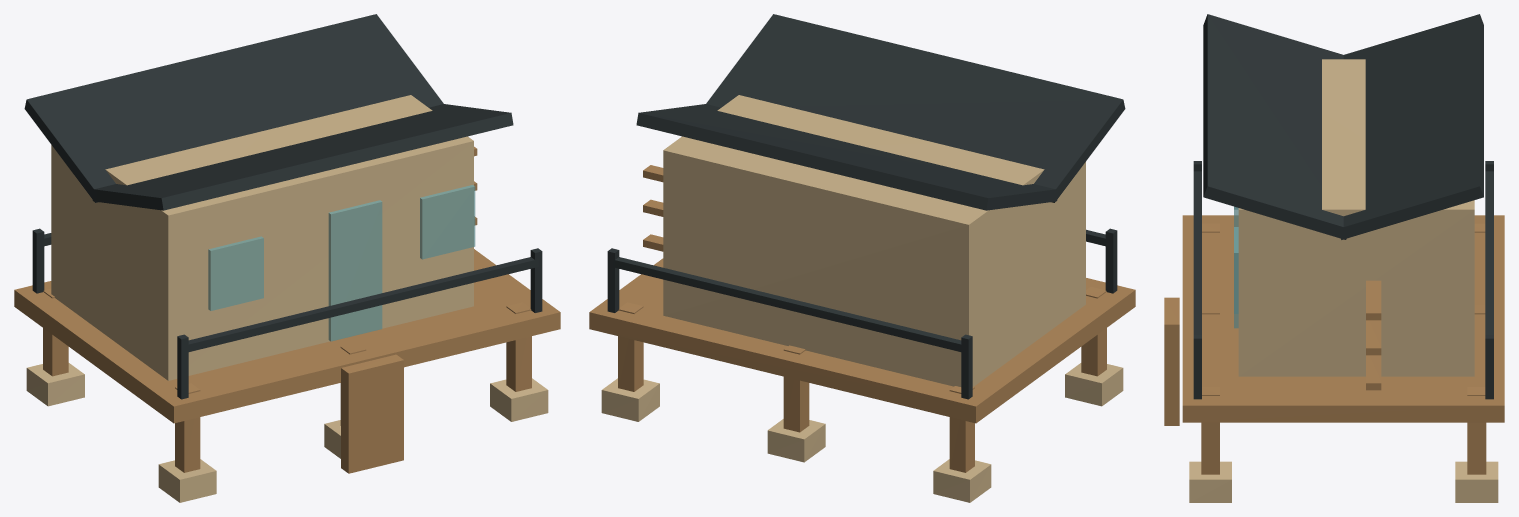
The model's file is fishing-hut.source.glb.
The picture shows the model from 3 angles, left to right: view 1: azimuth 30°, elevation 25°; view 2: azimuth 150°, elevation 25°; view 3: azimuth 270°, elevation 25°; orthographic projection.
Visible parts, largest first — view 1: fishing-hut-compact-gear-room-mesh, fishing-hut-shallow-pitched-roof--0.78-mesh, fishing-hut-narrow-raised-work-deck-mesh, fishing-hut-shallow-pitched-roof-0.78-mesh, fishing-hut-short-access-ladder-mesh, fishing-hut-simple-teal-door-mesh, fishing-hut-deck-safety-rail-1.7-mesh, fishing-hut-shuttered-window-1.45-mesh, fishing-hut-shuttered-window--1.42-mesh, fishing-hut-stone-footing--2.25--1.55-mesh, fishing-hut-stone-footing--2.25-1.55-mesh, fishing-hut-stone-footing-2.25-1.55-mesh (+6 smaller); view 2: fishing-hut-compact-gear-room-mesh, fishing-hut-shallow-pitched-roof-0.78-mesh, fishing-hut-narrow-raised-work-deck-mesh, fishing-hut-shallow-pitched-roof--0.78-mesh, fishing-hut-deck-safety-rail--1.7-mesh, fishing-hut-stone-footing--2.25--1.55-mesh, fishing-hut-stone-footing--2.25-1.55-mesh, fishing-hut-stone-footing-0--1.55-mesh, fishing-hut-stone-footing-2.25--1.55-mesh, fishing-hut-short-raised-post-2.25--1.55-mesh, fishing-hut-short-raised-post-0--1.55-mesh, fishing-hut-short-raised-post--2.25--1.55-mesh (+4 smaller); view 3: fishing-hut-compact-gear-room-mesh, fishing-hut-narrow-raised-work-deck-mesh, fishing-hut-shallow-pitched-roof--0.78-mesh, fishing-hut-shallow-pitched-roof-0.78-mesh, fishing-hut-short-access-ladder-mesh, fishing-hut-stone-footing-2.25--1.55-mesh, fishing-hut-stone-footing-2.25-1.55-mesh, fishing-hut-deck-safety-rail--1.7-mesh, fishing-hut-deck-safety-rail-1.7-mesh, fishing-hut-short-raised-post-2.25--1.55-mesh, fishing-hut-short-raised-post-2.25-1.55-mesh, fishing-hut-empty-exterior-rack-2.5-mesh (+6 smaller).
Boxes of the visible parts, <box> form: fishing-hut-compact-gear-room-mesh: <box>51,95,473,380</box>; fishing-hut-shallow-pitched-roof--0.78-mesh: <box>24,14,443,202</box>; fishing-hut-narrow-raised-work-deck-mesh: <box>14,249,560,423</box>; fishing-hut-shallow-pitched-roof-0.78-mesh: <box>91,104,513,210</box>; fishing-hut-short-access-ladder-mesh: <box>341,354,403,473</box>; fishing-hut-simple-teal-door-mesh: <box>328,200,382,341</box>; fishing-hut-deck-safety-rail-1.7-mesh: <box>185,257,538,352</box>; fishing-hut-shuttered-window-1.45-mesh: <box>420,185,475,259</box>; fishing-hut-shuttered-window--1.42-mesh: <box>208,236,263,310</box>; fishing-hut-stone-footing--2.25--1.55-mesh: <box>26,363,84,406</box>; fishing-hut-stone-footing--2.25-1.55-mesh: <box>158,459,216,502</box>; fishing-hut-stone-footing-2.25-1.55-mesh: <box>490,378,548,421</box>; fishing-hut-compact-gear-room-mesh: <box>663,95,1085,386</box>; fishing-hut-shallow-pitched-roof-0.78-mesh: <box>706,14,1125,202</box>; fishing-hut-narrow-raised-work-deck-mesh: <box>589,258,1135,423</box>; fishing-hut-shallow-pitched-roof--0.78-mesh: <box>636,104,1057,210</box>; fishing-hut-deck-safety-rail--1.7-mesh: <box>615,257,964,352</box>; fishing-hut-stone-footing--2.25--1.55-mesh: <box>933,459,991,502</box>; fishing-hut-stone-footing--2.25-1.55-mesh: <box>1065,363,1123,406</box>; fishing-hut-stone-footing-0--1.55-mesh: <box>767,419,825,462</box>; fishing-hut-stone-footing-2.25--1.55-mesh: <box>601,378,659,421</box>; fishing-hut-short-raised-post-2.25--1.55-mesh: <box>618,302,643,391</box>; fishing-hut-short-raised-post-0--1.55-mesh: <box>783,345,809,432</box>; fishing-hut-short-raised-post--2.25--1.55-mesh: <box>949,386,974,472</box>; fishing-hut-compact-gear-room-mesh: <box>1238,59,1474,376</box>; fishing-hut-narrow-raised-work-deck-mesh: <box>1182,215,1504,422</box>; fishing-hut-shallow-pitched-roof--0.78-mesh: <box>1337,14,1483,239</box>; fishing-hut-shallow-pitched-roof-0.78-mesh: <box>1203,14,1349,239</box>; fishing-hut-short-access-ladder-mesh: <box>1164,297,1179,425</box>; fishing-hut-stone-footing-2.25--1.55-mesh: <box>1455,461,1498,502</box>; fishing-hut-stone-footing-2.25-1.55-mesh: <box>1189,461,1231,502</box>; fishing-hut-deck-safety-rail--1.7-mesh: <box>1485,171,1493,334</box>; fishing-hut-deck-safety-rail-1.7-mesh: <box>1193,171,1201,334</box>; fishing-hut-short-raised-post-2.25--1.55-mesh: <box>1467,387,1486,474</box>; fishing-hut-short-raised-post-2.25-1.55-mesh: <box>1201,387,1219,474</box>; fishing-hut-empty-exterior-rack-2.5-mesh: <box>1366,280,1381,320</box>.
Bounding box in the file's own units: 5.35 × 3.9 × 3.97.
